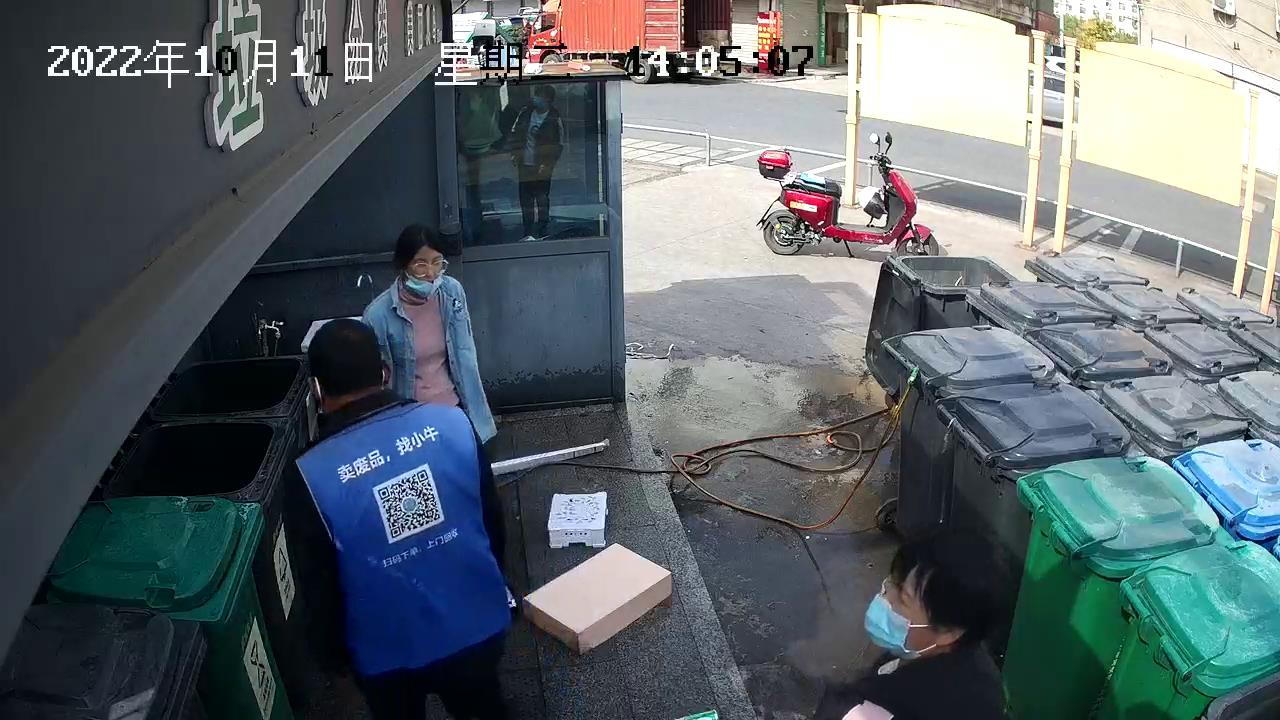person: (832, 521, 1010, 720)
suliaozhipin: (544, 488, 610, 552)
worker: (281, 223, 517, 720)
zhizhipin: (523, 541, 673, 657)
